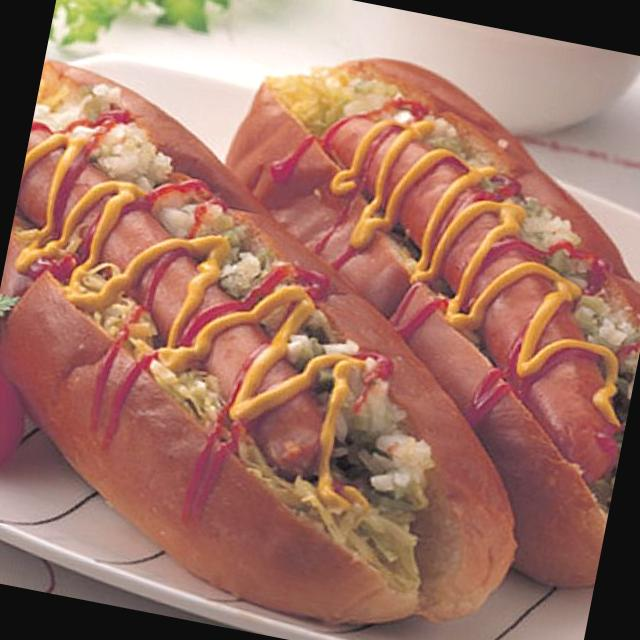Hot Dog: (0, 27, 591, 640)
